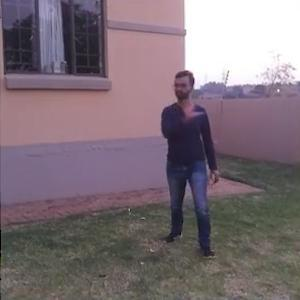follow_hand: (181, 97, 199, 119)
